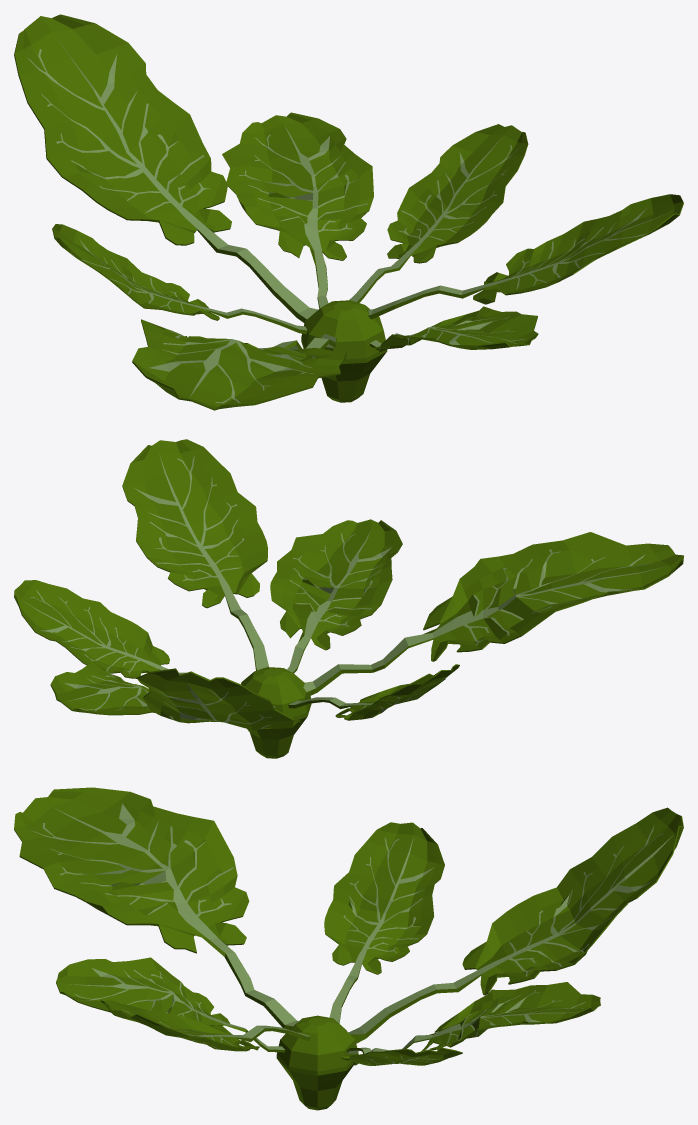
The model's file is BroccoliPlant_Harvested.fbx.
3 renders of one model, top to bottom at view 1: azimuth 30°, elevation 25°; view 2: azimuth 150°, elevation 25°; view 3: azimuth 270°, elevation 25°, orthographic. The views are drawn at different scales.
Visible parts, largest first — view 1: BroccoliPlant_Harvested; view 2: BroccoliPlant_Harvested; view 3: BroccoliPlant_Harvested.
Boxes of the visible parts, x1=… form: BroccoliPlant_Harvested: x1=14, y1=14, x2=683, y2=410; BroccoliPlant_Harvested: x1=14, y1=439, x2=683, y2=758; BroccoliPlant_Harvested: x1=14, y1=787, x2=683, y2=1110.
Bounding box in the file's own units: 2925 × 1301 × 3271.
